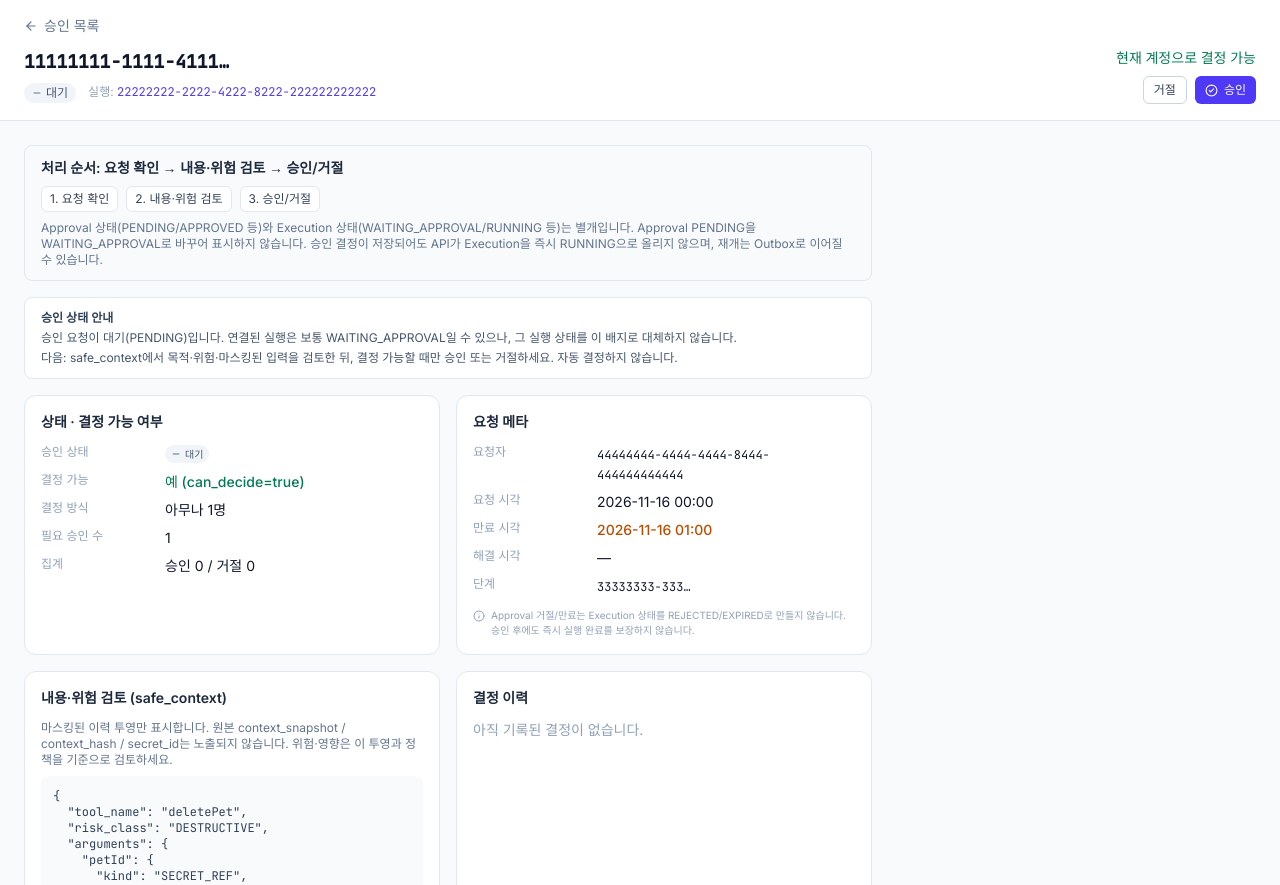
it: ApprovalDetail decide (phase 2) › prevents double submit while a decide request is in flight
The image size is (1280, 885).
Check: the text "현재 계정으로 결정 가능" is shown, box [1116,48,1256,68]
Click the button "승인" at (1225, 90), box [1195,76,1256,104]
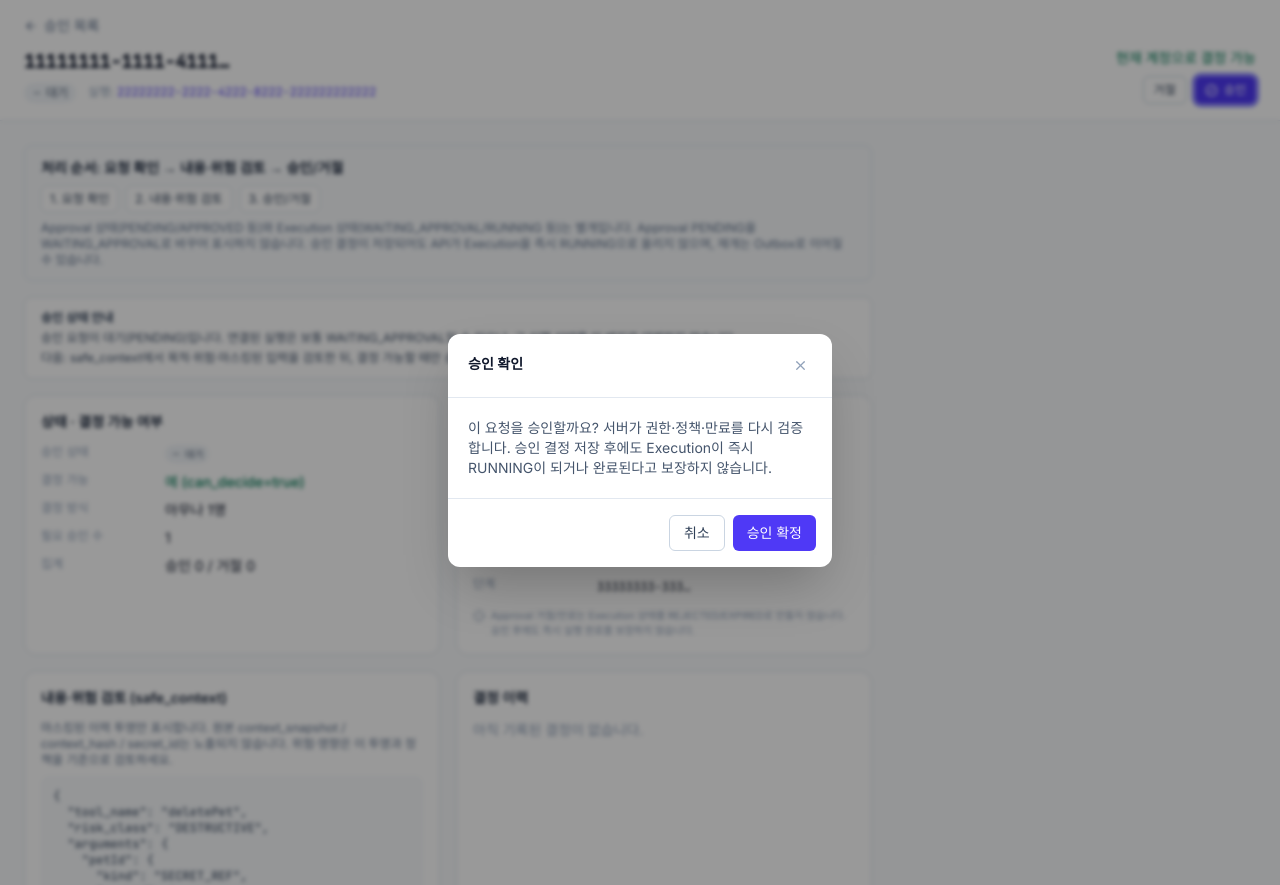
Click the button "승인 확정" at (774, 532), box [733,514,816,550]
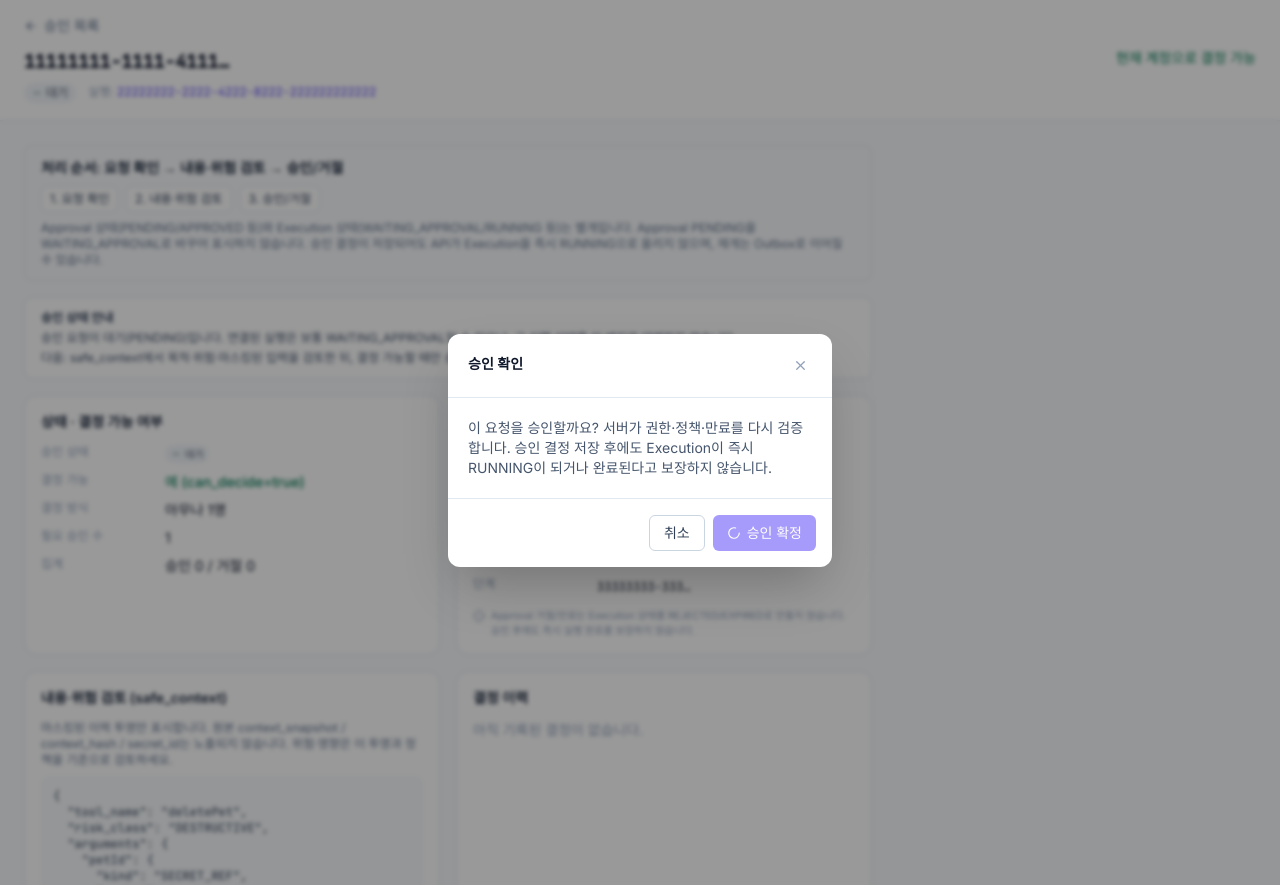
Click the button "승인 확정" at (764, 532), box [713,514,816,550]
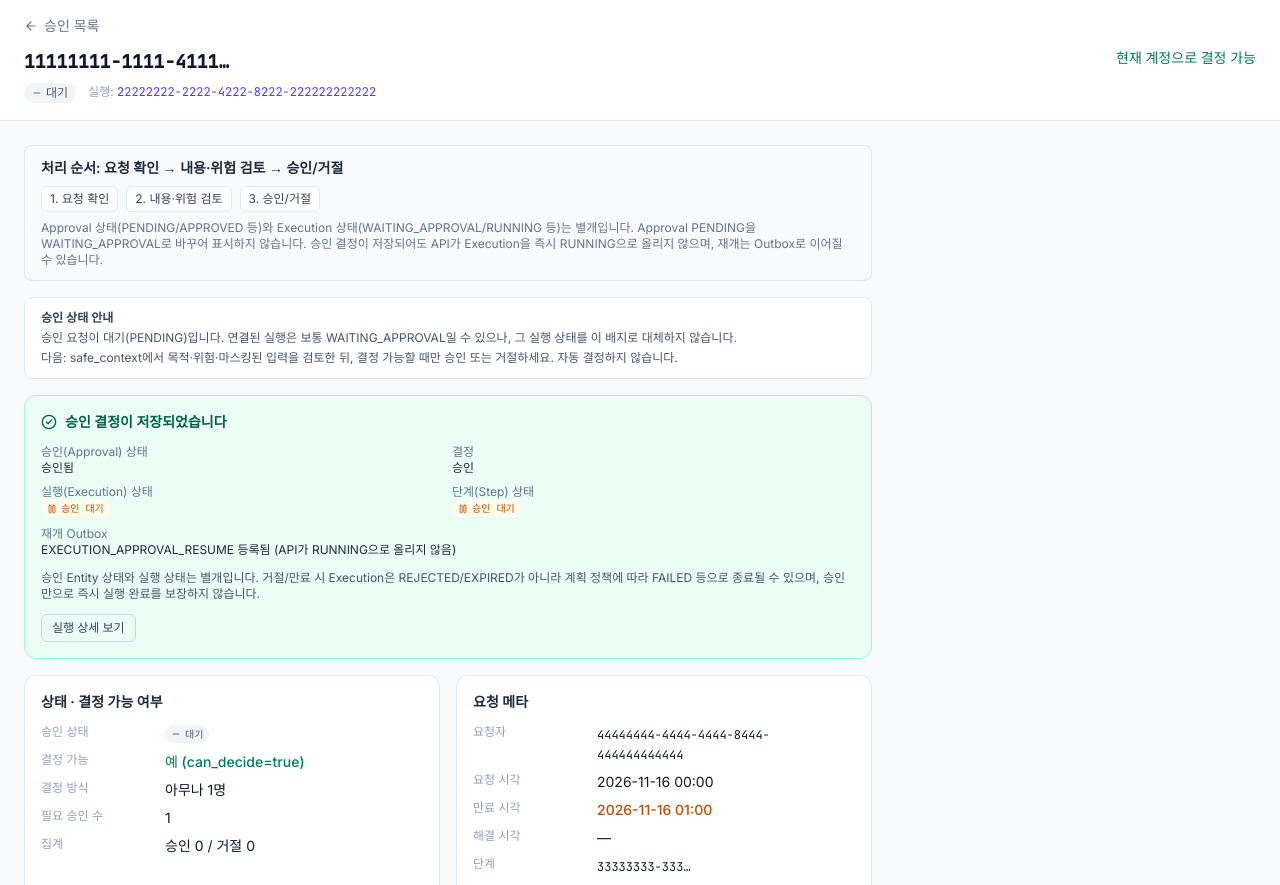
Check: the text "승인 결정이 저장되었습니다" is shown, box [41,413,227,430]
